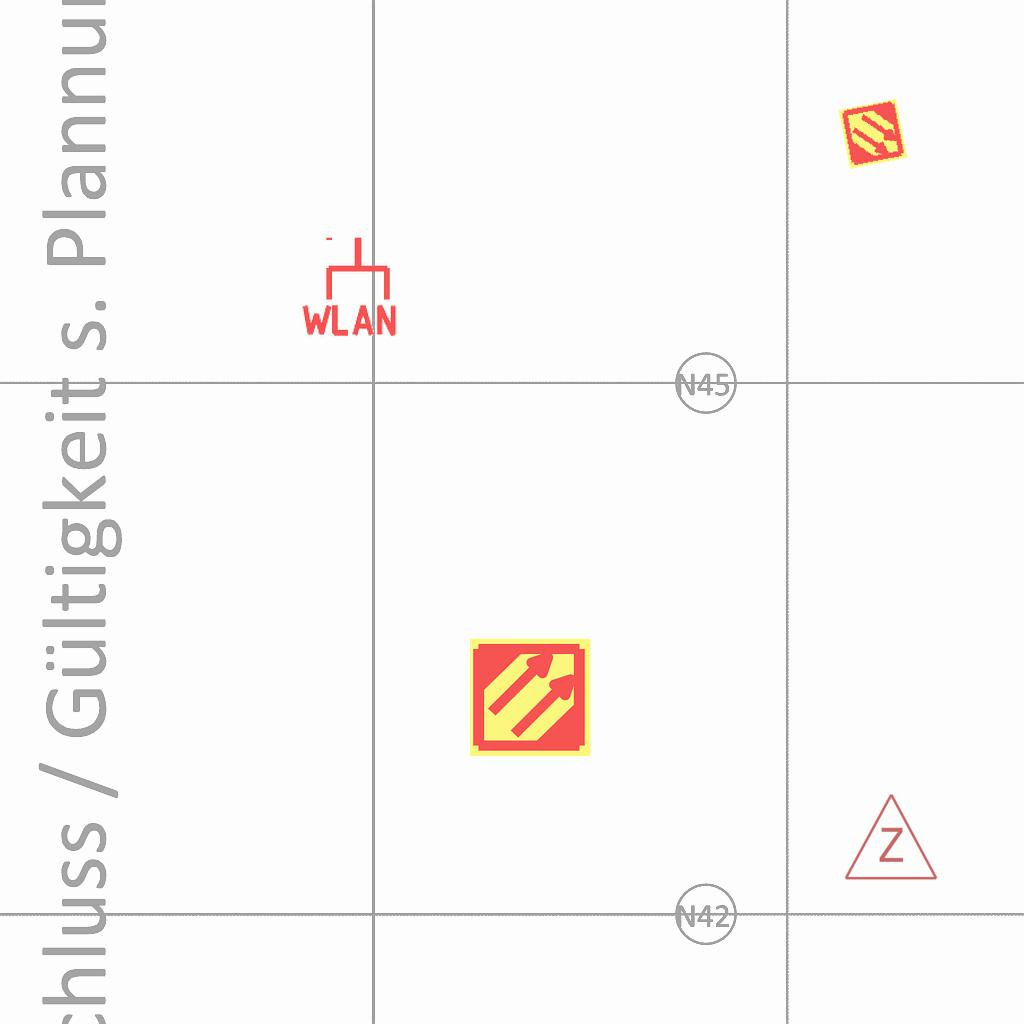ASR_Ansaugrauchmelder: (468, 635, 593, 760), (836, 97, 910, 171)
WLAN: (297, 233, 401, 338)
Zimmersignalleuchte: (841, 787, 939, 887)
